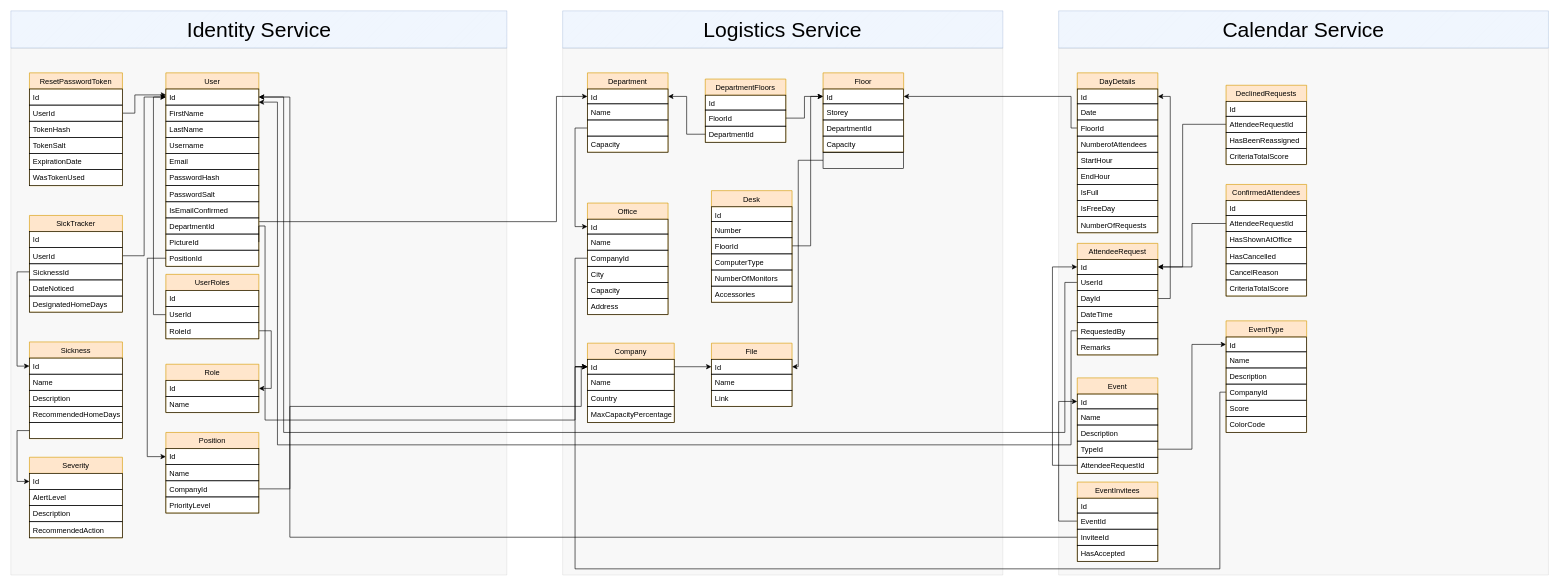
Some shapes in this 1559 by 586 pixel diagram are drawn without their labels. The shapes that lost their labels are listed below. From the top down, each one's centre as x and y in pixels, then its label:
At (x=627, y=127): "OfficeId".
At (x=863, y=160): "MapFileId".
At (x=75, y=430): "SeverityId".
